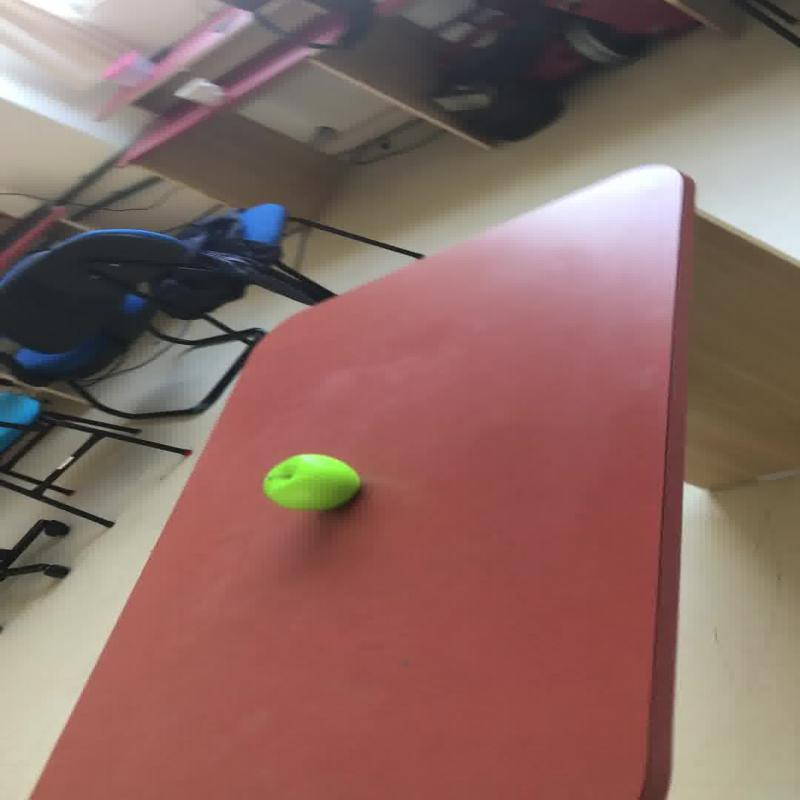apple: (260, 453, 361, 511)
